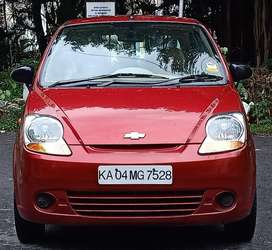KA04MG7528: (98, 165, 172, 184)
